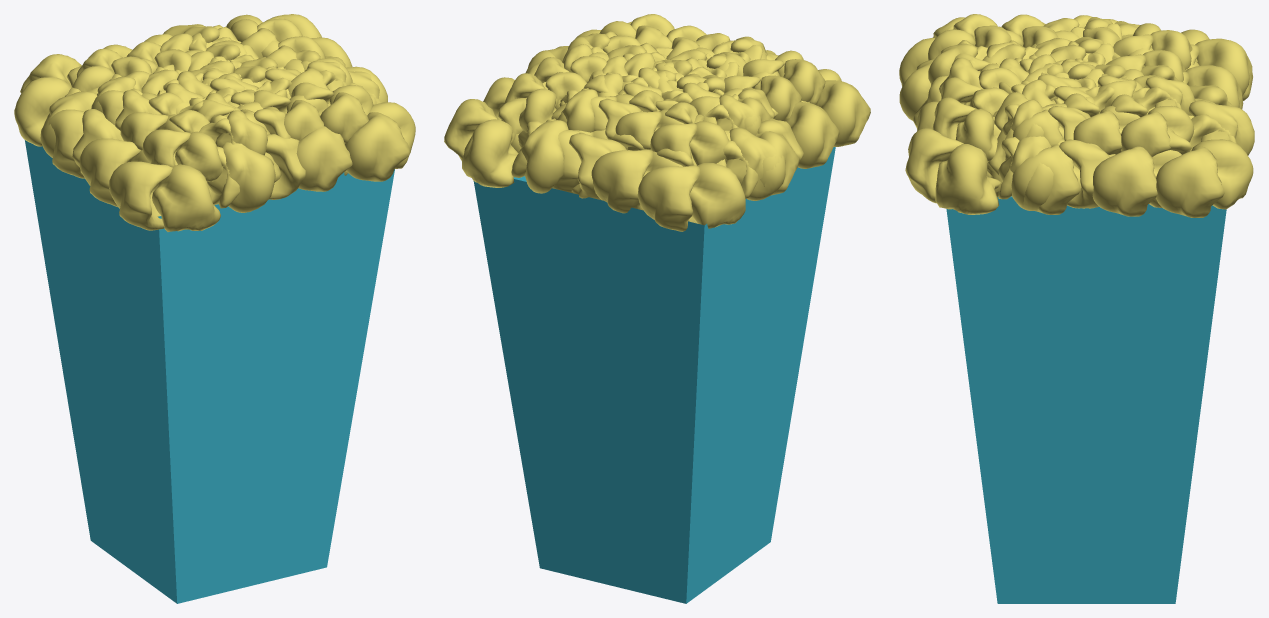
File: PalomitaChica.glb
3 views of the same model, side by side, from view 1: azimuth 30°, elevation 25°; view 2: azimuth 150°, elevation 25°; view 3: azimuth 270°, elevation 25° (orthographic). The views are drawn at different scales.
Visible parts, largest first — view 1: Cube, Sphere.001, Sphere.002; view 2: Cube, Sphere.001, Sphere.002; view 3: Cube, Sphere.001, Sphere.002.
Boxes of the visible parts, x1,y1,x2,y2 form: Cube: (25,140,394,603); Sphere.001: (14,14,415,231); Sphere.002: (72,18,373,181); Cube: (473,147,835,603); Sphere.001: (444,21,870,231); Sphere.002: (505,14,825,165); Cube: (946,196,1226,603); Sphere.001: (899,17,1254,217); Sphere.002: (928,14,1195,161).
Bounding box in the file's own units: 2.29 × 3.5 × 2.23.
